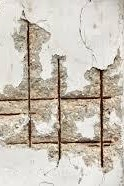Exposed reinforcement: (1, 95, 112, 102), (26, 21, 32, 149), (5, 139, 114, 145), (57, 58, 61, 160), (99, 69, 103, 168), (1, 111, 37, 116), (87, 143, 110, 148)
Spalling: (1, 8, 124, 175)
